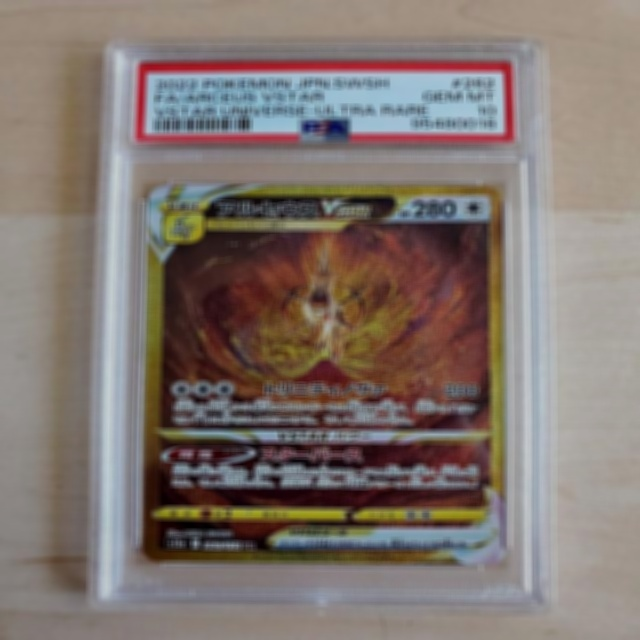card: (141, 185, 507, 565)
